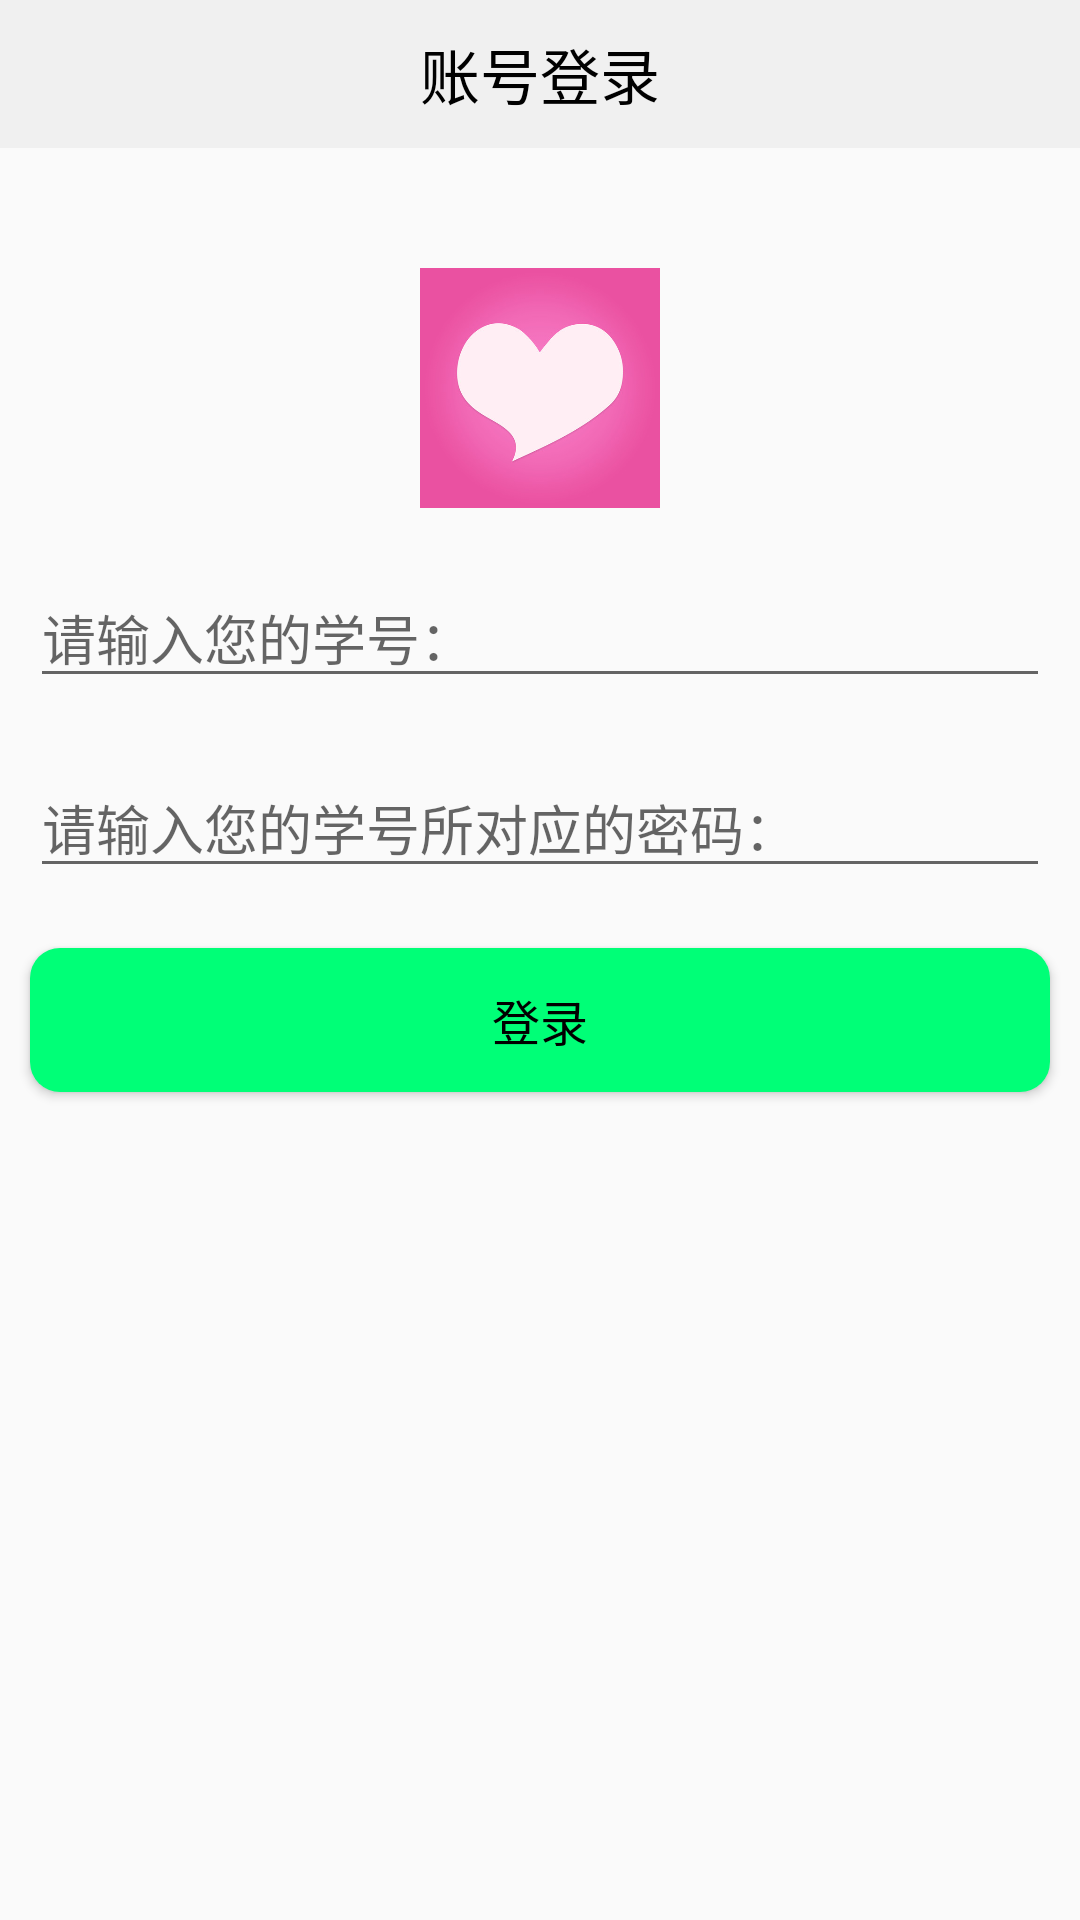

Icon bounding boxes for this 1080px×1920px phone screenshot, format Rect(x1, y1, x2, y2):
fall in love: Rect(420, 268, 660, 508)
